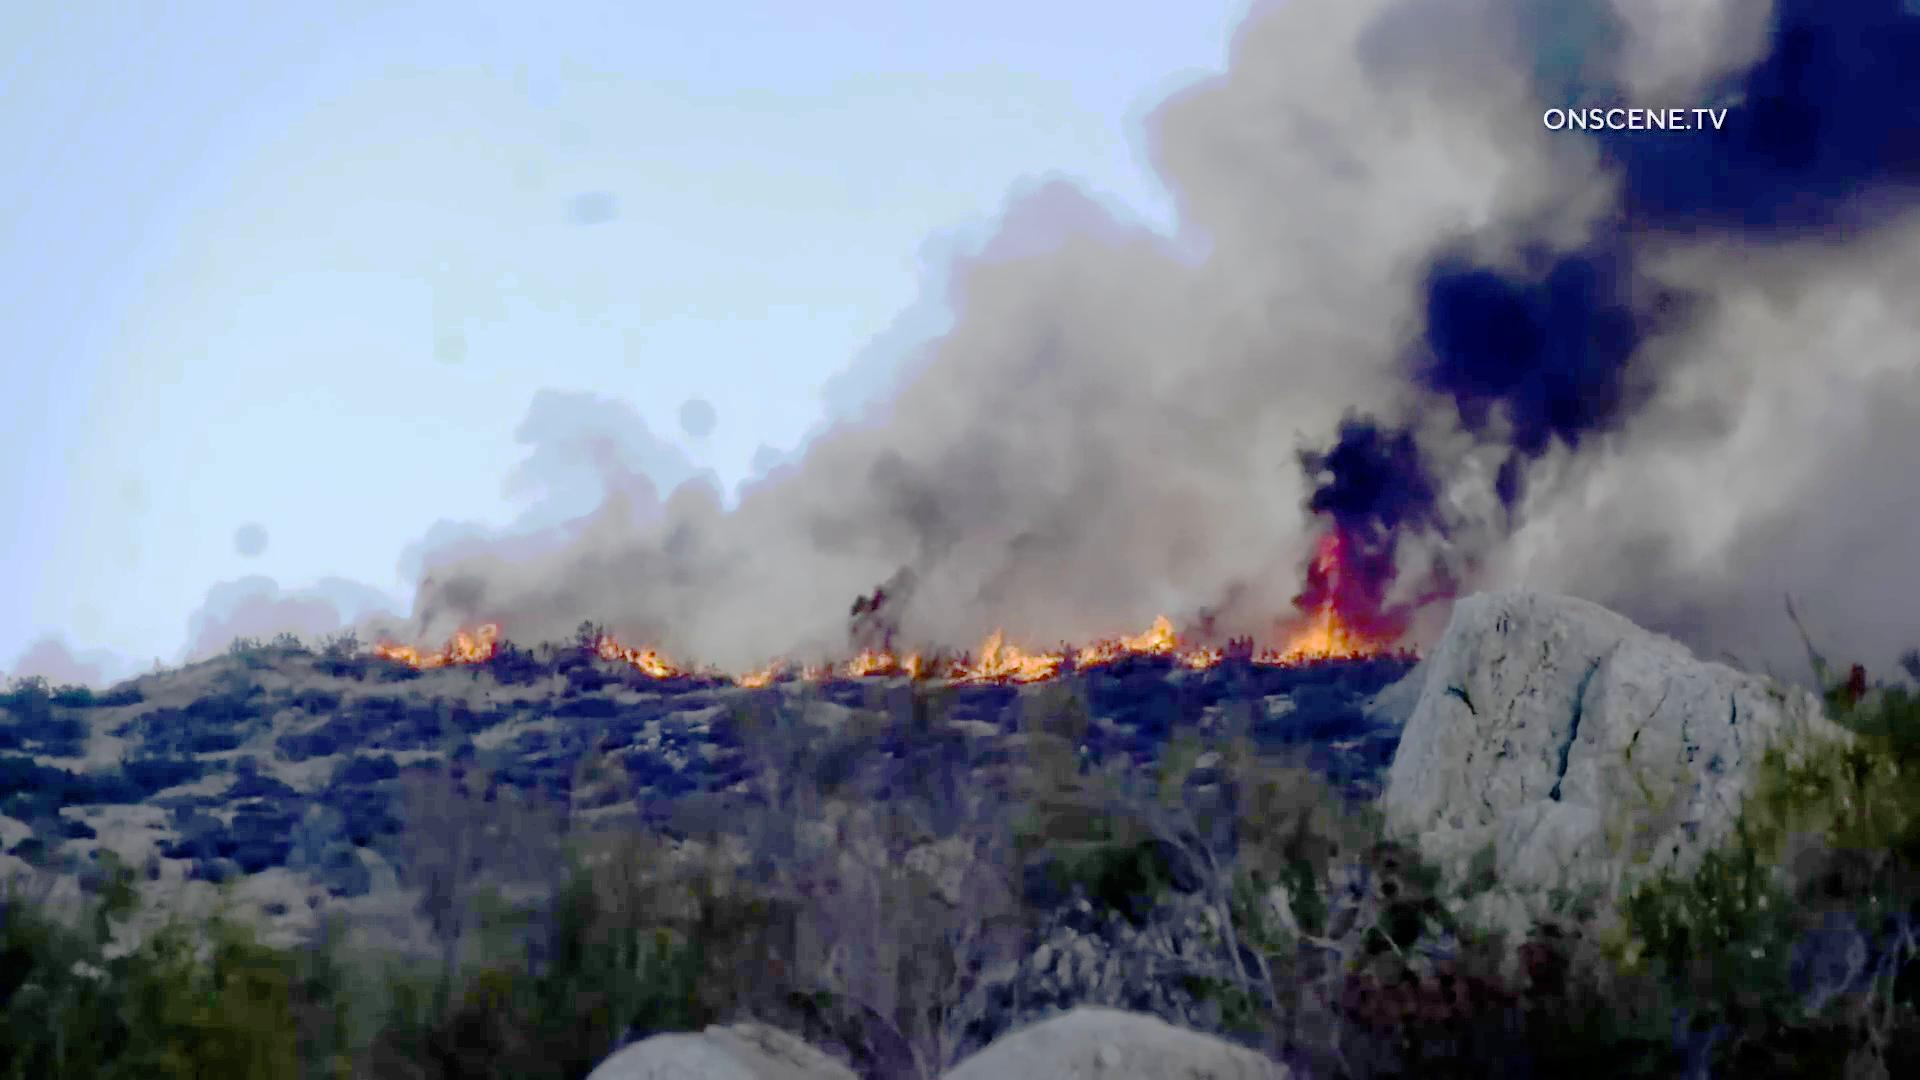smoke: (1127, 189, 1875, 574)
